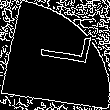L_W: (22, 35, 88, 75)
